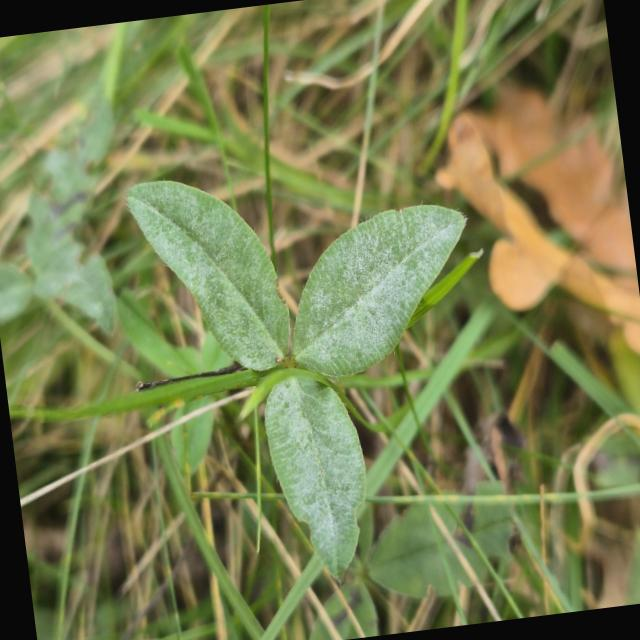powdery_mildew: (128, 181, 289, 370), (293, 205, 465, 376), (265, 377, 365, 577)
